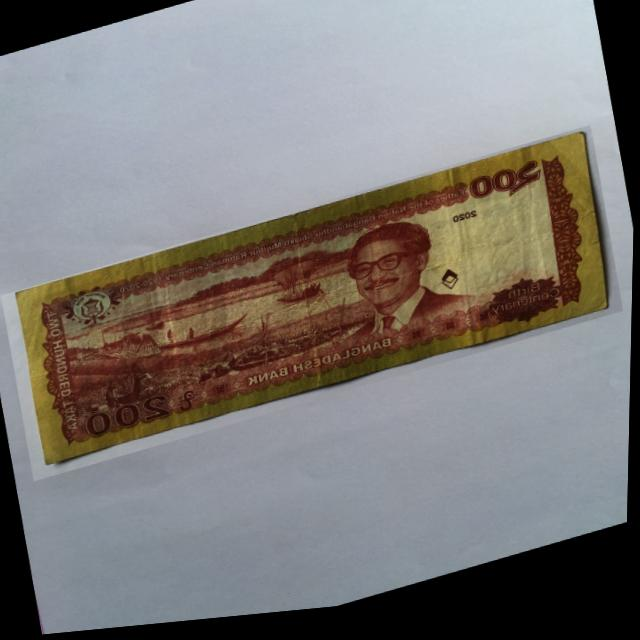Taka: (0, 134, 628, 485)
